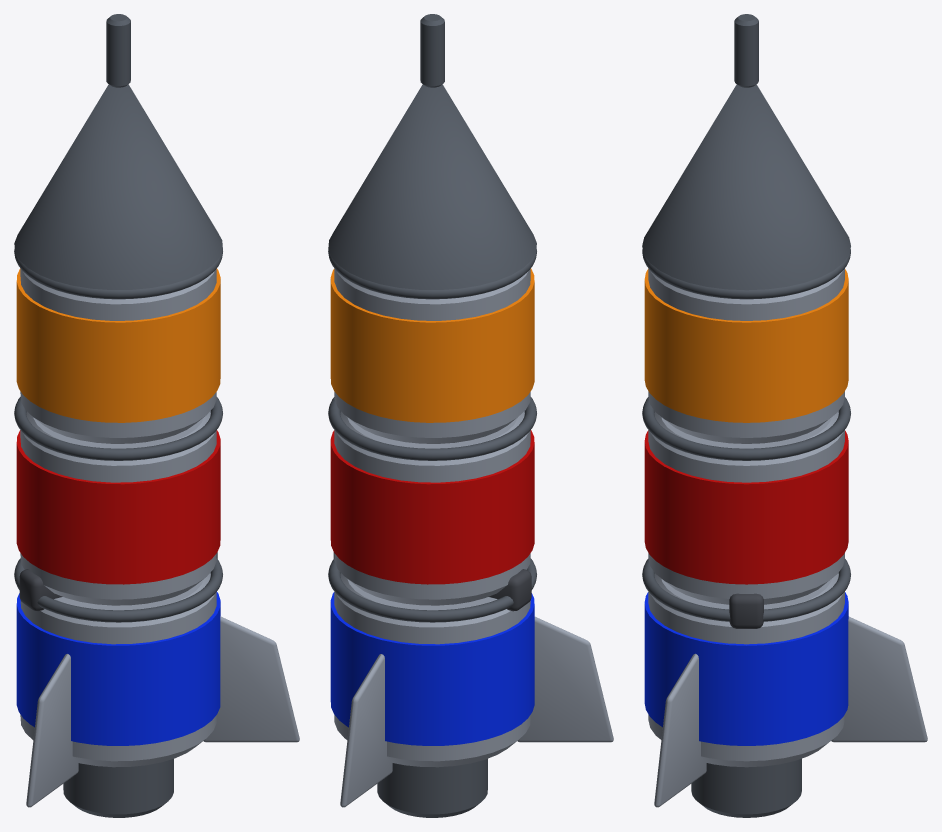
File: Rocket_03_TinCans.obj
The picture shows the model from 3 angles, left to right: view 1: azimuth 30°, elevation 25°; view 2: azimuth 150°, elevation 25°; view 3: azimuth 270°, elevation 25°; orthographic projection.
Parts seen in each view (by area): view 1: R03_Funnel, R03_Label_2, R03_Label_3, R03_Label, R03_Can_2, R03_Can, R03_Can_3, R03_LidFin_3, R03_Nozzle, R03_LidFin_2, R03_Rim_2, R03_Rim (+3 smaller); view 2: R03_Funnel, R03_Label_2, R03_Label_3, R03_Label, R03_Can_2, R03_Can, R03_Can_3, R03_LidFin_2, R03_Nozzle, R03_LidFin, R03_Rim_2, R03_Rim (+3 smaller); view 3: R03_Funnel, R03_Label_2, R03_Label_3, R03_Label, R03_Can_2, R03_Can, R03_Can_3, R03_LidFin, R03_Nozzle, R03_LidFin_3, R03_Rim_2, R03_Rim (+3 smaller).
Boxes of the visible parts, x1,y1,x2,y2 form: R03_Funnel: (14, 84, 222, 289); R03_Label_2: (16, 430, 220, 584); R03_Label_3: (16, 268, 220, 422); R03_Label: (16, 591, 220, 745); R03_Can_2: (20, 411, 216, 605); R03_Can: (20, 572, 216, 767); R03_Can_3: (20, 268, 216, 443); R03_LidFin_3: (203, 616, 299, 742); R03_Nozzle: (63, 759, 173, 817); R03_LidFin_2: (26, 654, 78, 807); R03_Rim_2: (14, 397, 222, 460); R03_Rim: (14, 558, 222, 622); R03_Funnel: (328, 84, 536, 289); R03_Label_2: (330, 430, 534, 584); R03_Label_3: (330, 268, 534, 422); R03_Label: (330, 592, 534, 745); R03_Can_2: (334, 411, 530, 605); R03_Can: (334, 573, 530, 767); R03_Can_3: (334, 268, 530, 443); R03_LidFin_2: (517, 616, 613, 742); R03_Nozzle: (377, 758, 487, 817); R03_LidFin: (340, 654, 392, 807); R03_Rim_2: (328, 397, 536, 460); R03_Rim: (328, 558, 536, 622); R03_Funnel: (642, 84, 850, 290); R03_Label_2: (644, 430, 848, 584); R03_Label_3: (644, 269, 848, 422); R03_Label: (644, 592, 848, 745); R03_Can_2: (648, 411, 844, 604); R03_Can: (648, 573, 844, 767); R03_Can_3: (648, 268, 844, 443); R03_LidFin: (831, 616, 927, 742); R03_Nozzle: (691, 758, 801, 817); R03_LidFin_3: (654, 653, 706, 807); R03_Rim_2: (642, 397, 850, 460); R03_Rim: (642, 559, 850, 621).
Bounding box in the file's own units: 2.56 × 7 × 2.32.
